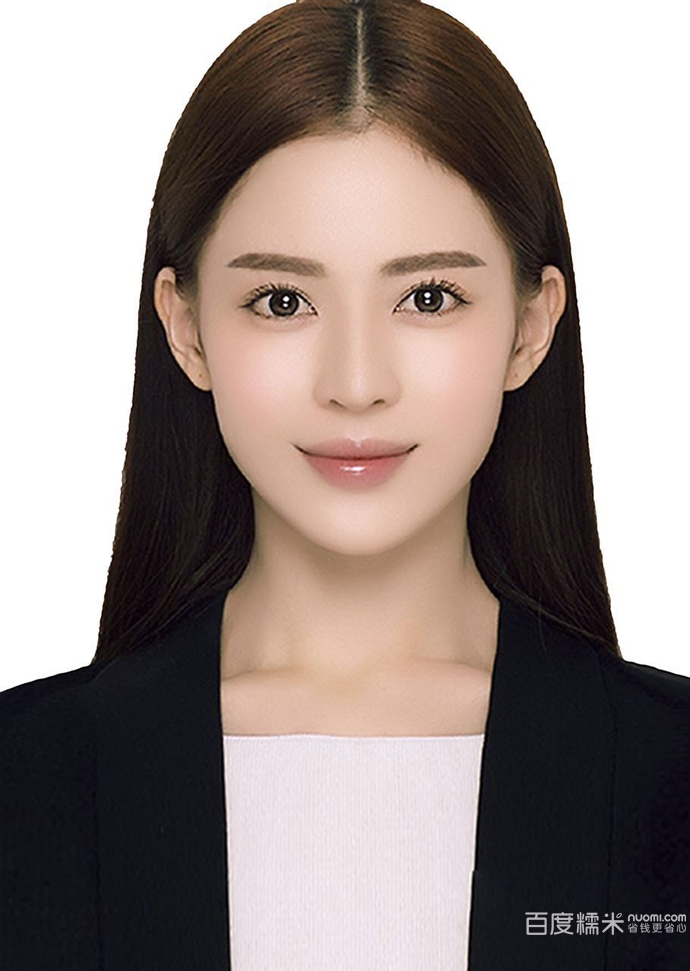unmask: (207, 179, 510, 572)
